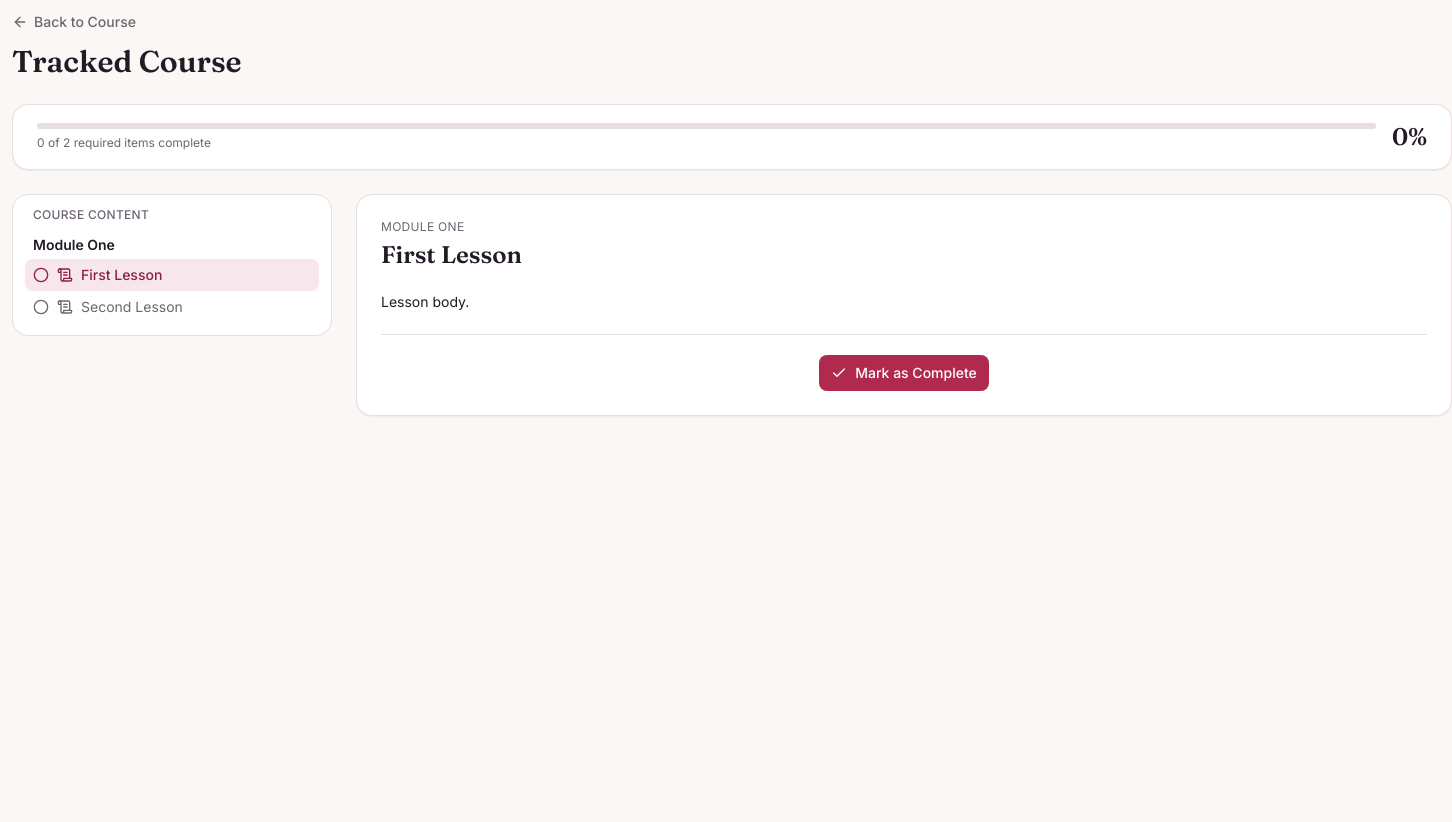
Test: LearnPage progress display › marks the open lesson complete and updates progress without reloading
Expected: the text "0%" is shown, [1392,121,1427,153]
Click the button "Mark as Complete" at (904, 373), box [819,355,989,391]
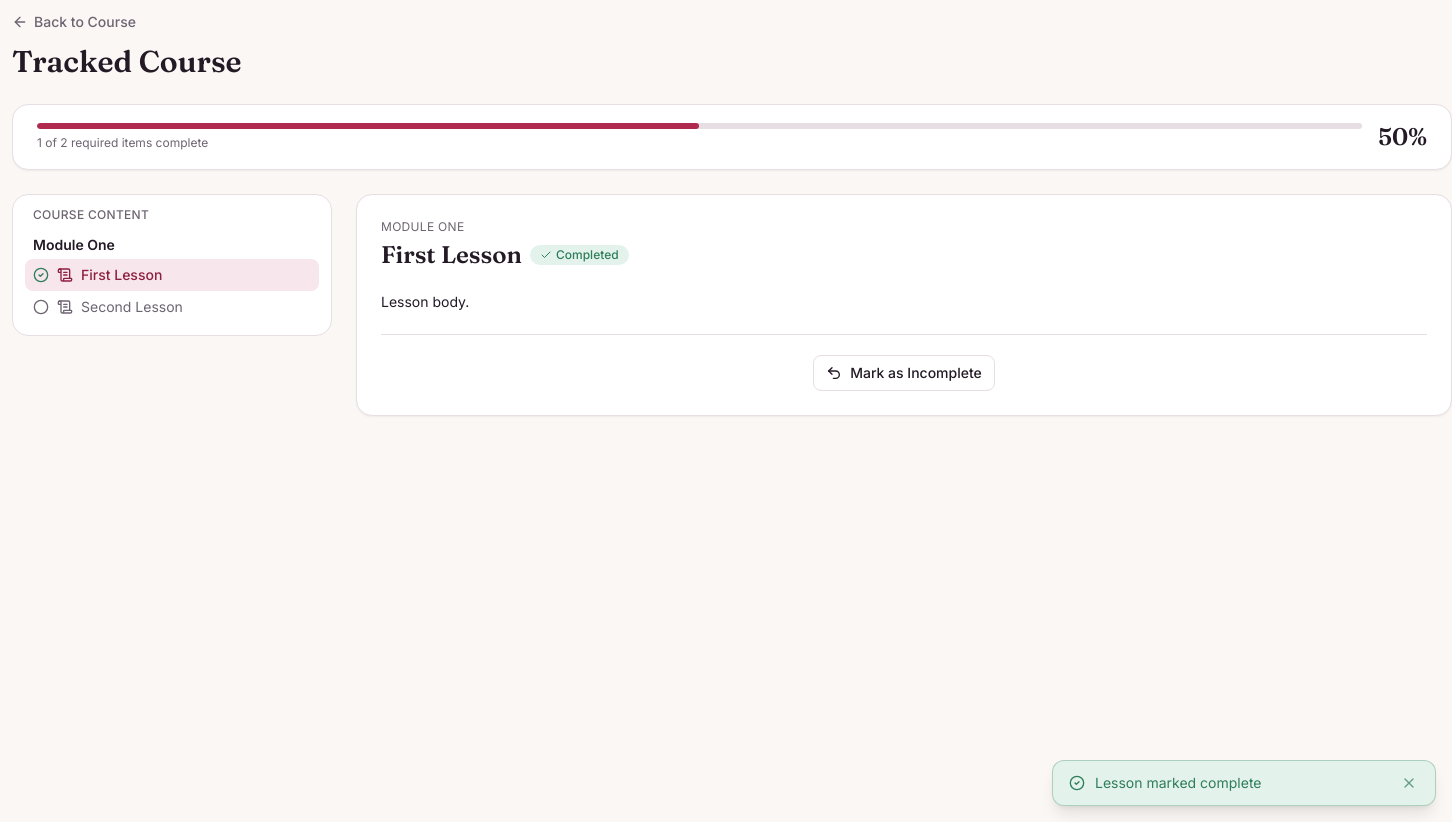
Now the text "50%" is shown, box [1378,121,1427,153]
Now the text "Lesson marked complete" is shown, box [1095,774,1262,791]
